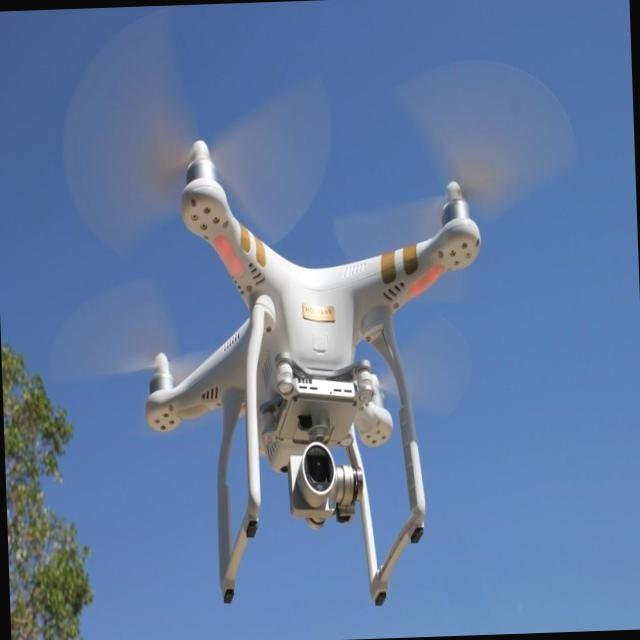drone: (131, 133, 493, 614)
